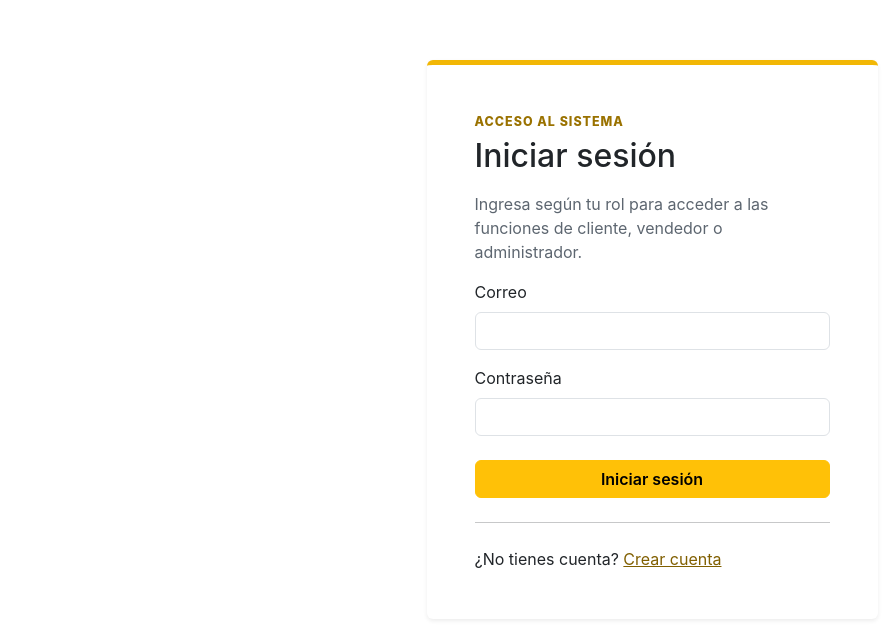
Scenario: Integrante 2 - Login › 15. autentica al cliente y respeta la ruta desde la que fue enviado al login
The image size is (895, 638).
Type "CLIENTE@LOSMAESTROS.CL" into the field labelled "Correo".
click(652, 331); type("CLIENTE@LOSMAESTROS.CL")  # box [474,312,830,350]
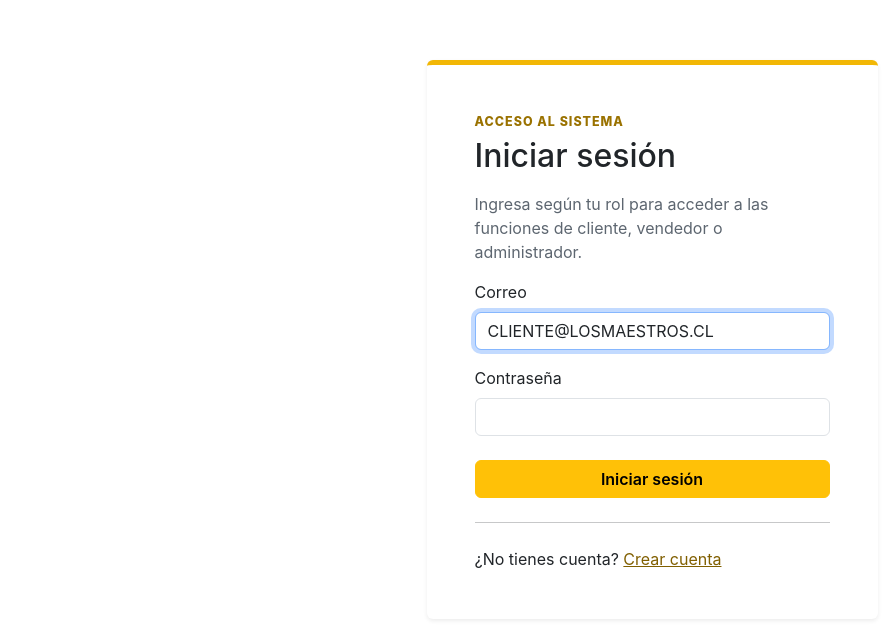
Type "cliente123" into the password field labelled "Contraseña".
click(652, 417); type("cliente123")  # box [474,398,830,436]
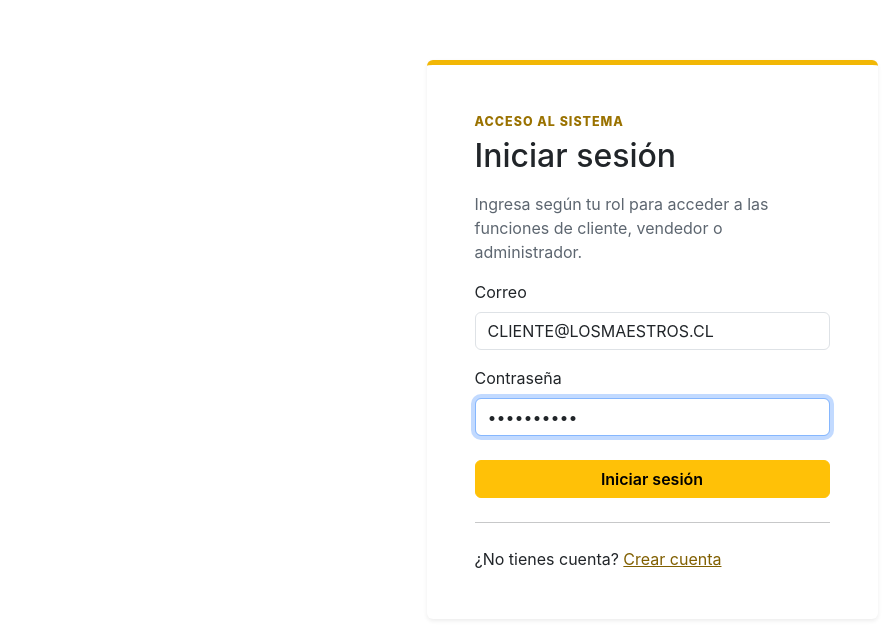
Click the button "Iniciar sesión".
click(652, 479)  # box [474,460,830,498]
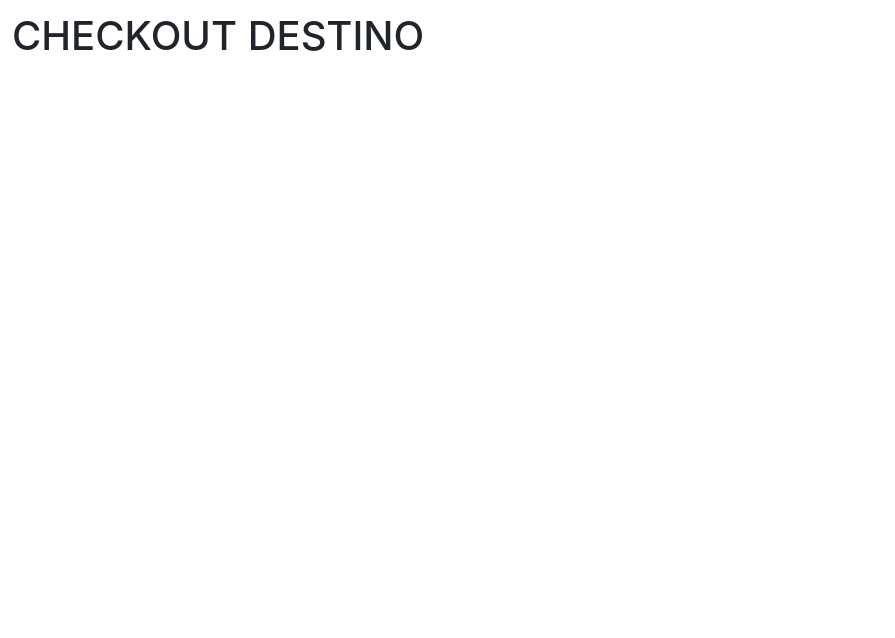
Expected: the heading "CHECKOUT DESTINO" is shown, [12,11,424,60]
